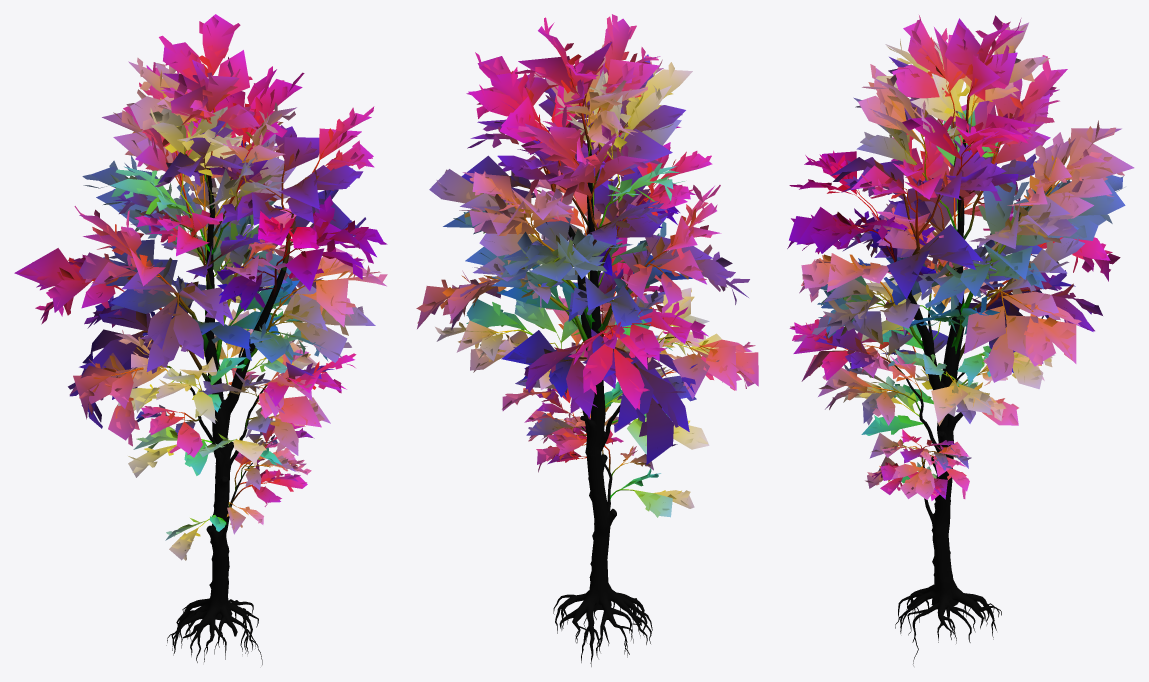
File: SM_EuropeanBeech_XL_01.fbx
The picture shows the model from 3 angles, left to right: view 1: azimuth 30°, elevation 25°; view 2: azimuth 150°, elevation 25°; view 3: azimuth 270°, elevation 25°; orthographic projection. The views are drawn at different scales.
Visible parts, largest first — view 1: SM_EuropeanBeech_XL_01_LOD0; view 2: SM_EuropeanBeech_XL_01_LOD0; view 3: SM_EuropeanBeech_XL_01_LOD0.
Boxes of the visible parts, x1,y1,x2,y2 form: SM_EuropeanBeech_XL_01_LOD0: (14, 14, 387, 664); SM_EuropeanBeech_XL_01_LOD0: (416, 14, 758, 666); SM_EuropeanBeech_XL_01_LOD0: (787, 15, 1134, 665).
Size of the model in its own units: 1309 by 1345 by 2767.
